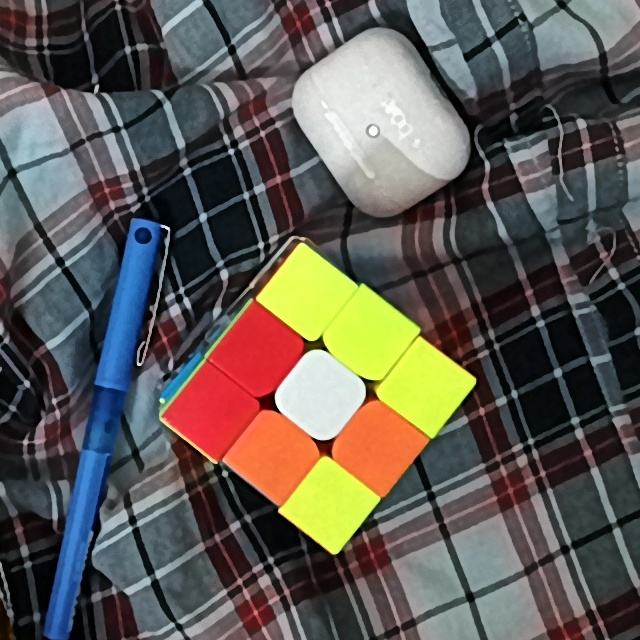tile: (401, 360, 454, 416), (295, 368, 345, 422), (354, 421, 403, 472), (305, 480, 356, 529), (189, 385, 239, 434), (348, 312, 399, 360), (237, 327, 285, 377), (251, 430, 298, 480), (286, 270, 330, 317)
